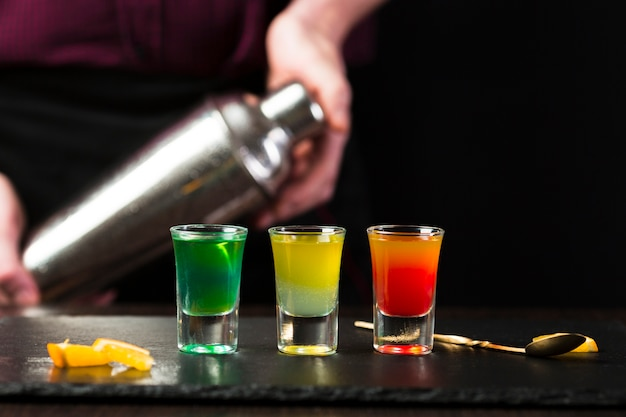alcohol: (362, 224, 448, 354), (167, 221, 249, 355), (266, 223, 347, 356)
